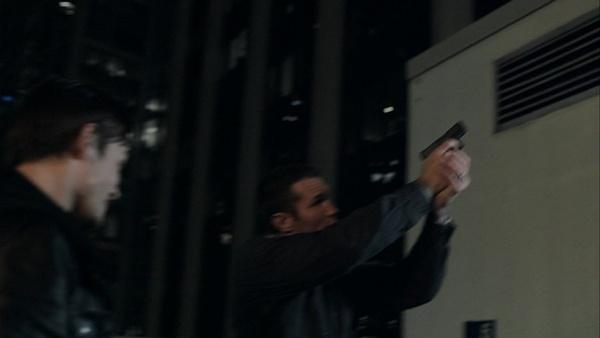Gun: (420, 118, 468, 165)
